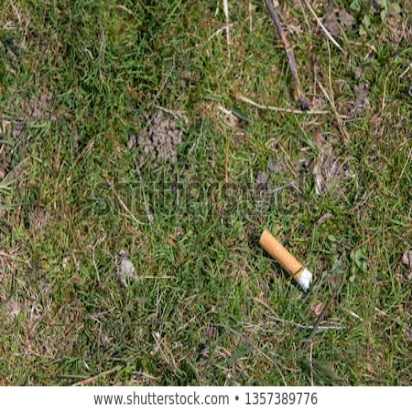cigarette: (254, 228, 324, 295)
